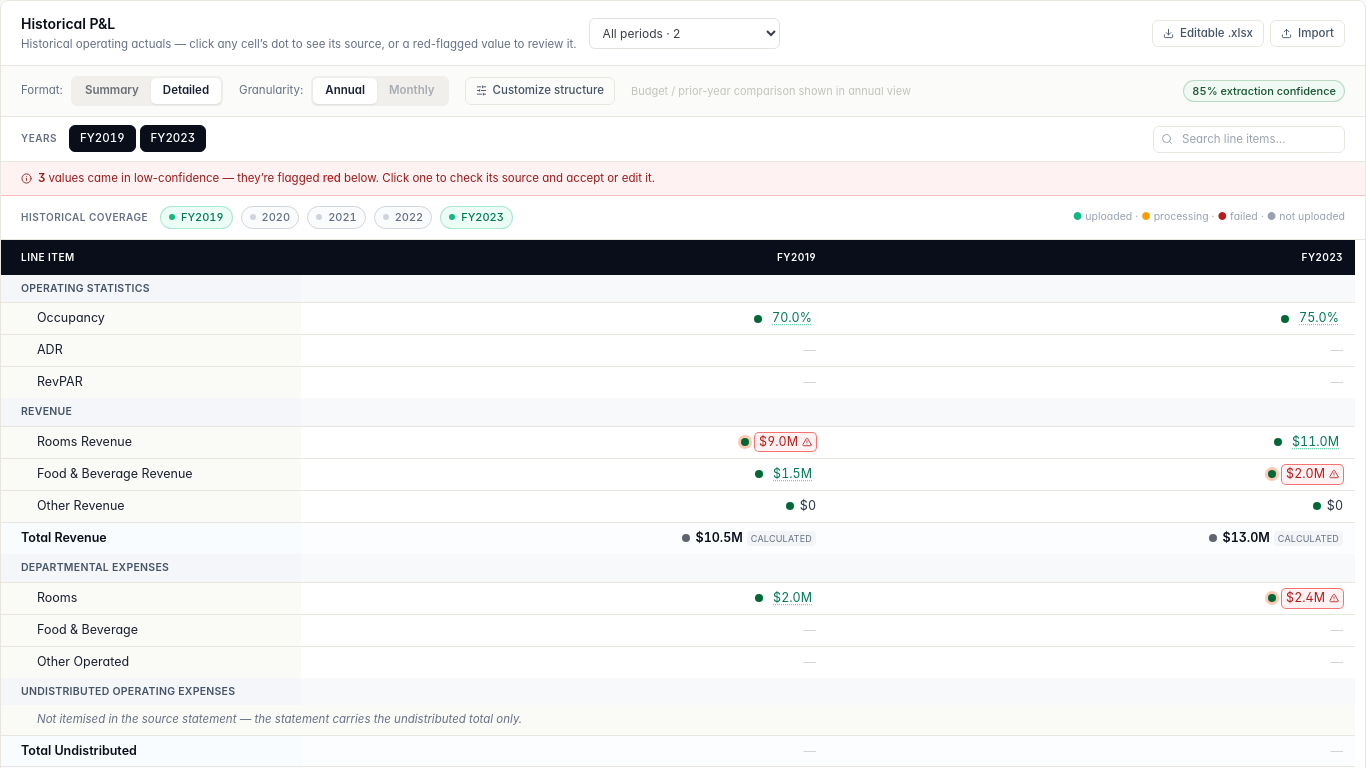
Test: Historicals worksheet — red cells come from the shared review state › flags exactly the cells the Data Room counts (3 across both columns; 2019 → 1, 2023 → 2)
Check: the text "3" is shown, box [38,171,45,185]
Check: the number of buttons "$9.0M" is 3, box [755,433,816,451]; [1282,465,1343,484]; [1282,589,1343,608]
// Per column: hide 2019 → only the 2023 column's 2 remain.
Click the button "FY2019".
click(102, 139)  # box [69,125,136,152]
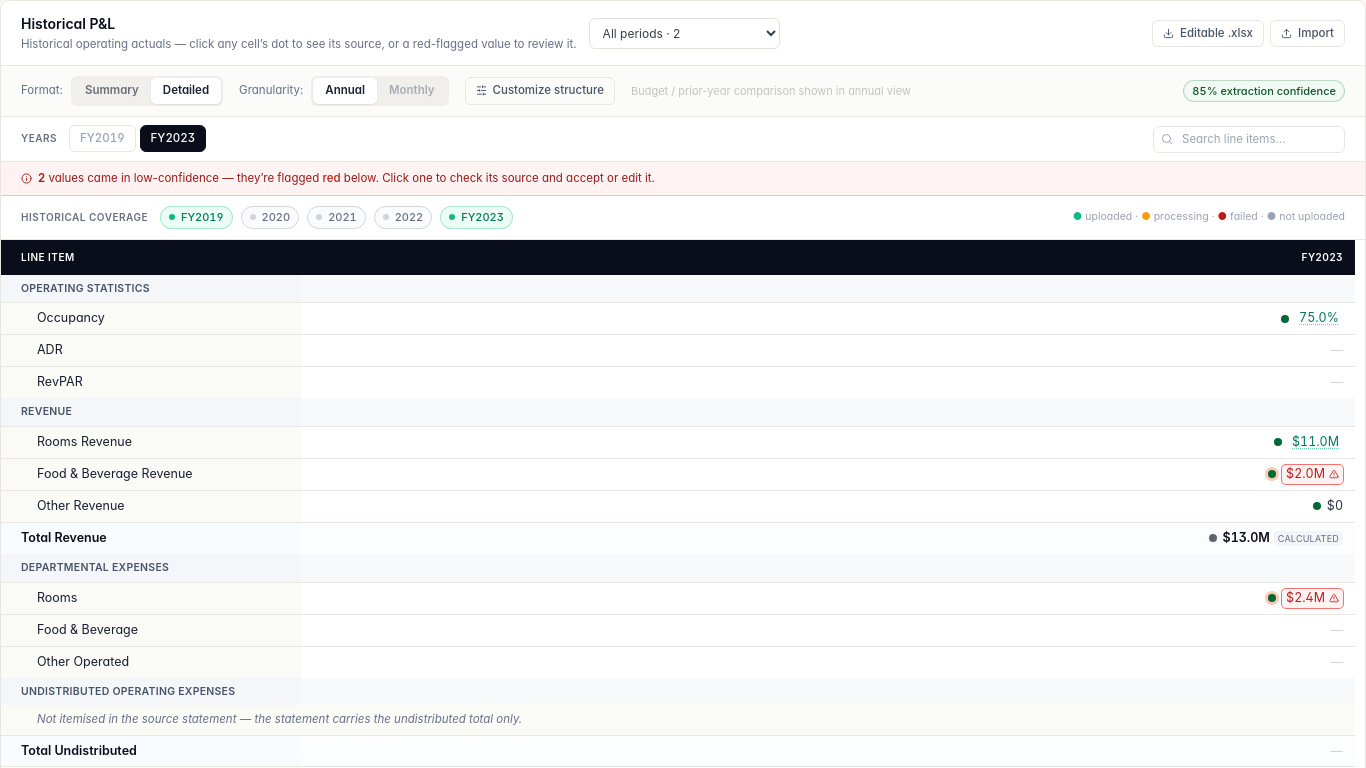
Check: the number of buttons "$2.0M" is 2, box [1282,465,1343,484]; [1282,589,1343,608]
Click the button "FY2019".
click(102, 139)  # box [69,125,136,152]
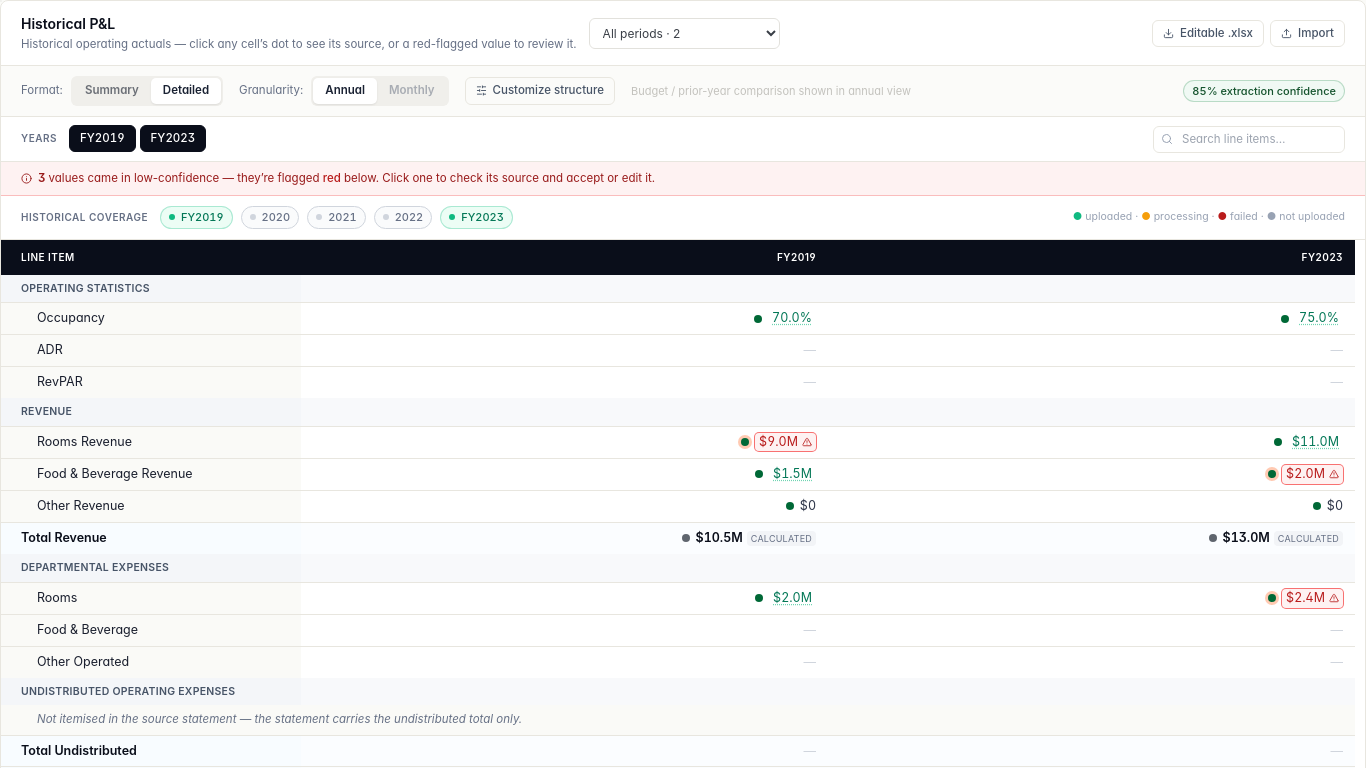
Click the button "FY2023".
click(173, 139)  # box [140,125,206,152]
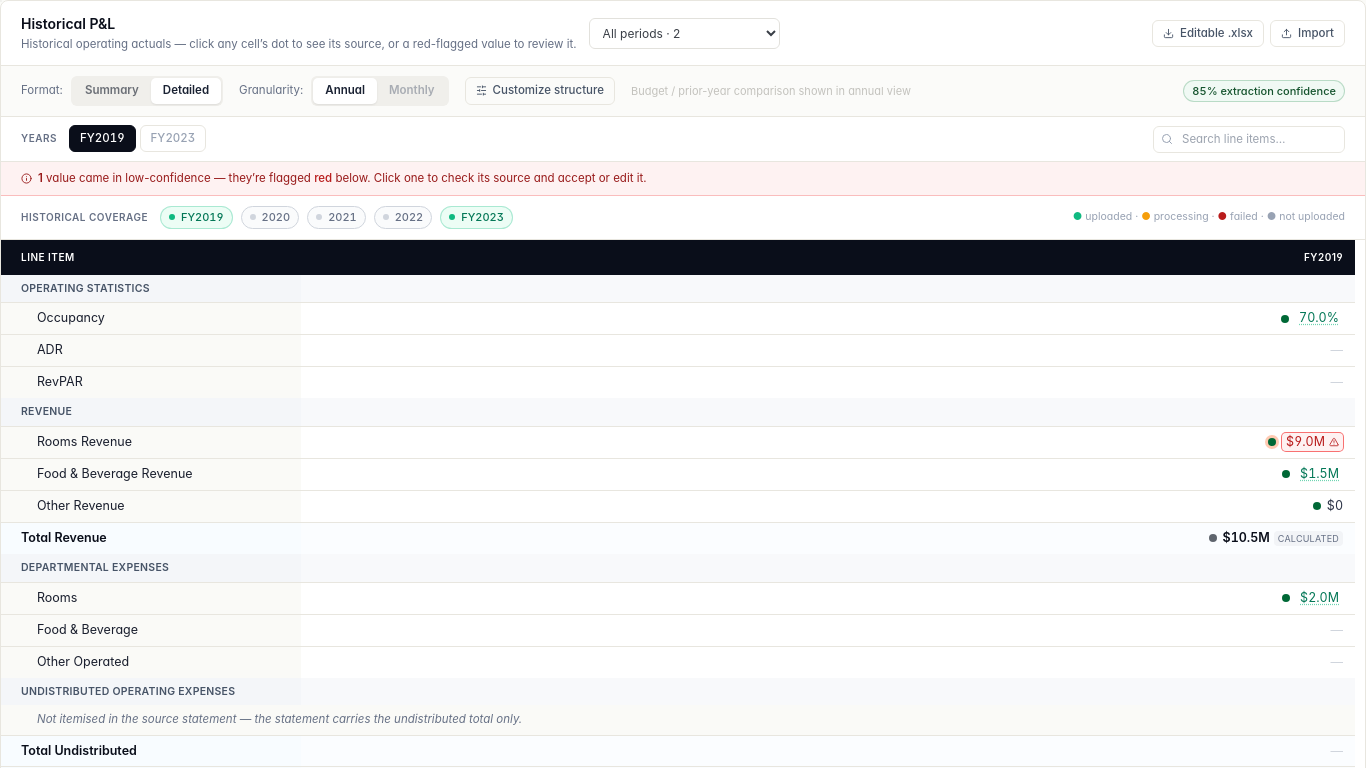
Check: the number of buttons "$9.0M" is 1, box [1282,433,1343,451]
